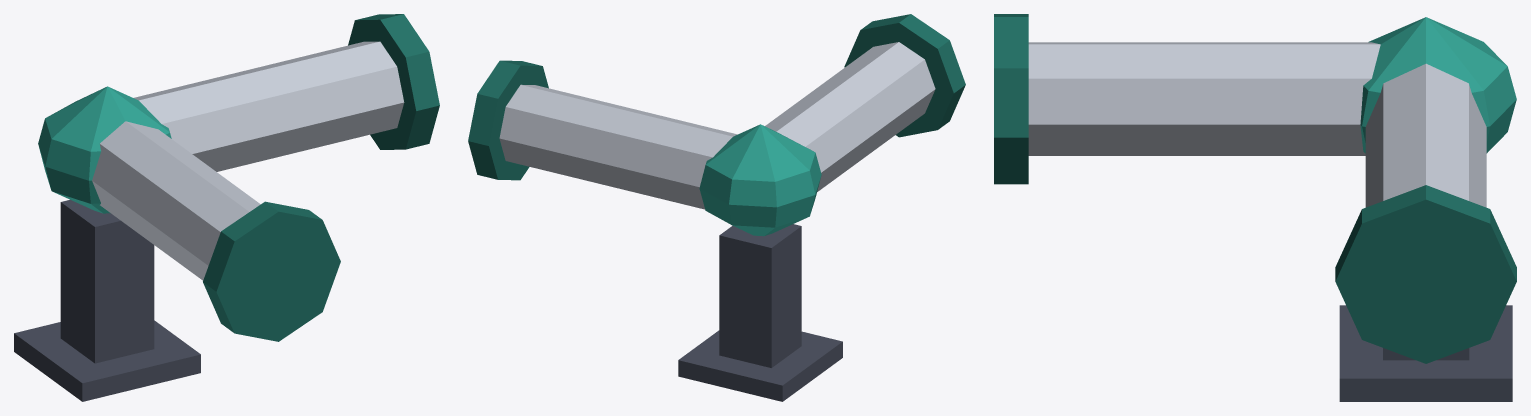
Rendered from pipe-elbow.glb.
The picture shows the model from 3 angles, left to right: view 1: azimuth 30°, elevation 25°; view 2: azimuth 150°, elevation 25°; view 3: azimuth 270°, elevation 25°; orthographic projection. The views are drawn at different scales.
Visible parts, largest first — view 1: pipe-elbow; view 2: pipe-elbow; view 3: pipe-elbow.
Boxes of the visible parts, x1,y1,x2,y2 form: pipe-elbow: (14, 14, 439, 401); pipe-elbow: (468, 14, 965, 401); pipe-elbow: (994, 14, 1516, 401).
Bounding box in the file's own units: 0.605 × 0.445 × 0.605.
Materials: 1 (1 with a texture image).
